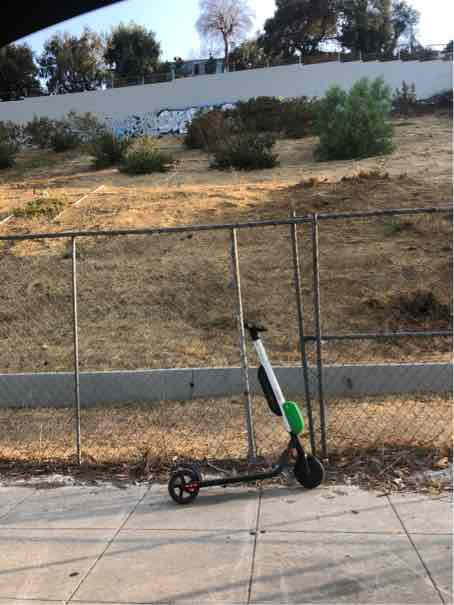scooter: (156, 237, 320, 529)
